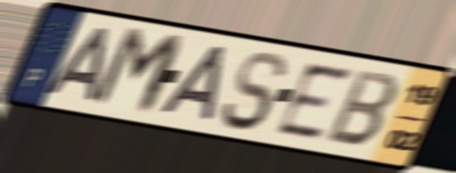A: (155, 43, 231, 126), (40, 24, 116, 106)
B: (323, 66, 404, 150)
E: (273, 60, 357, 142)
M: (87, 23, 190, 120)
S: (217, 49, 291, 134)
